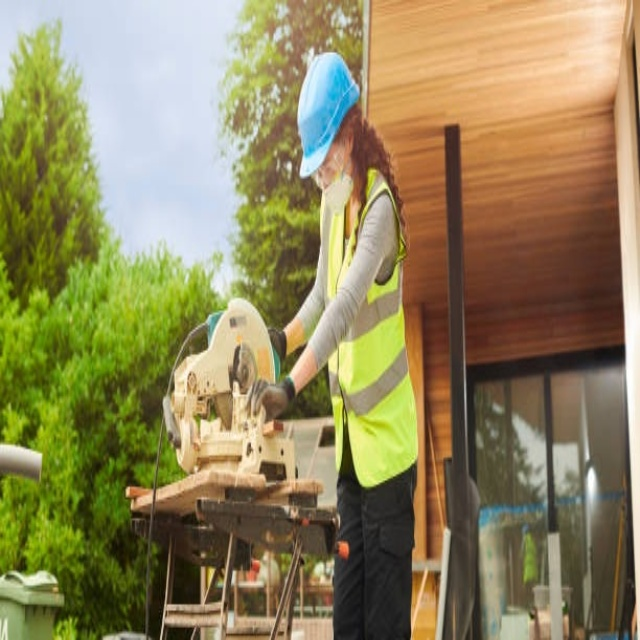Gafas: (312, 139, 342, 191)
Guantes: (248, 371, 302, 428)
Mascara: (321, 149, 354, 213)
